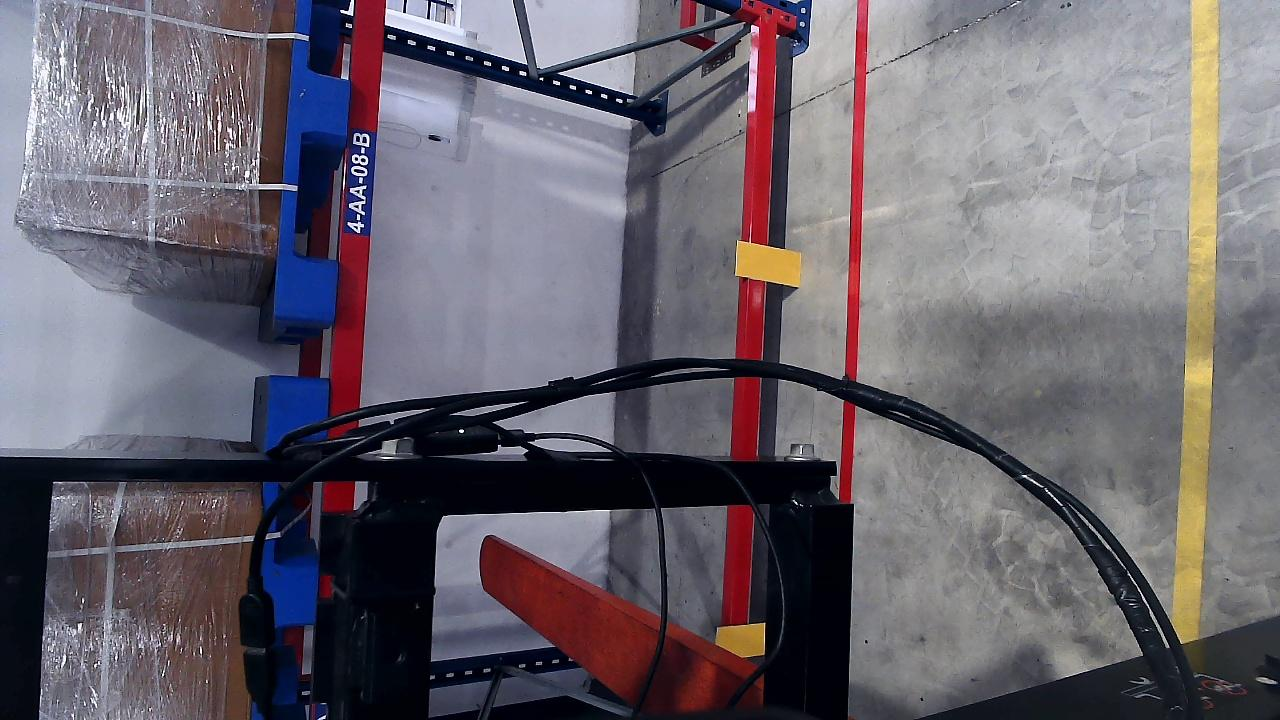h_rack: (717, 18, 766, 717), (327, 0, 390, 418)
orange_strip: (735, 241, 801, 287), (713, 623, 765, 657)
red_line: (843, 7, 868, 379)
small_pallet: (270, 0, 365, 319)
yellow_line: (1170, 56, 1220, 670)
